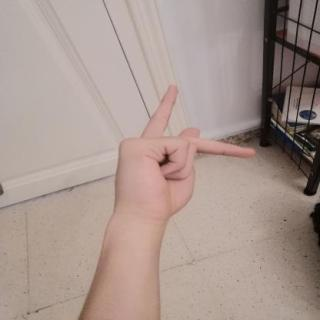DHAA: (102, 78, 265, 228)
